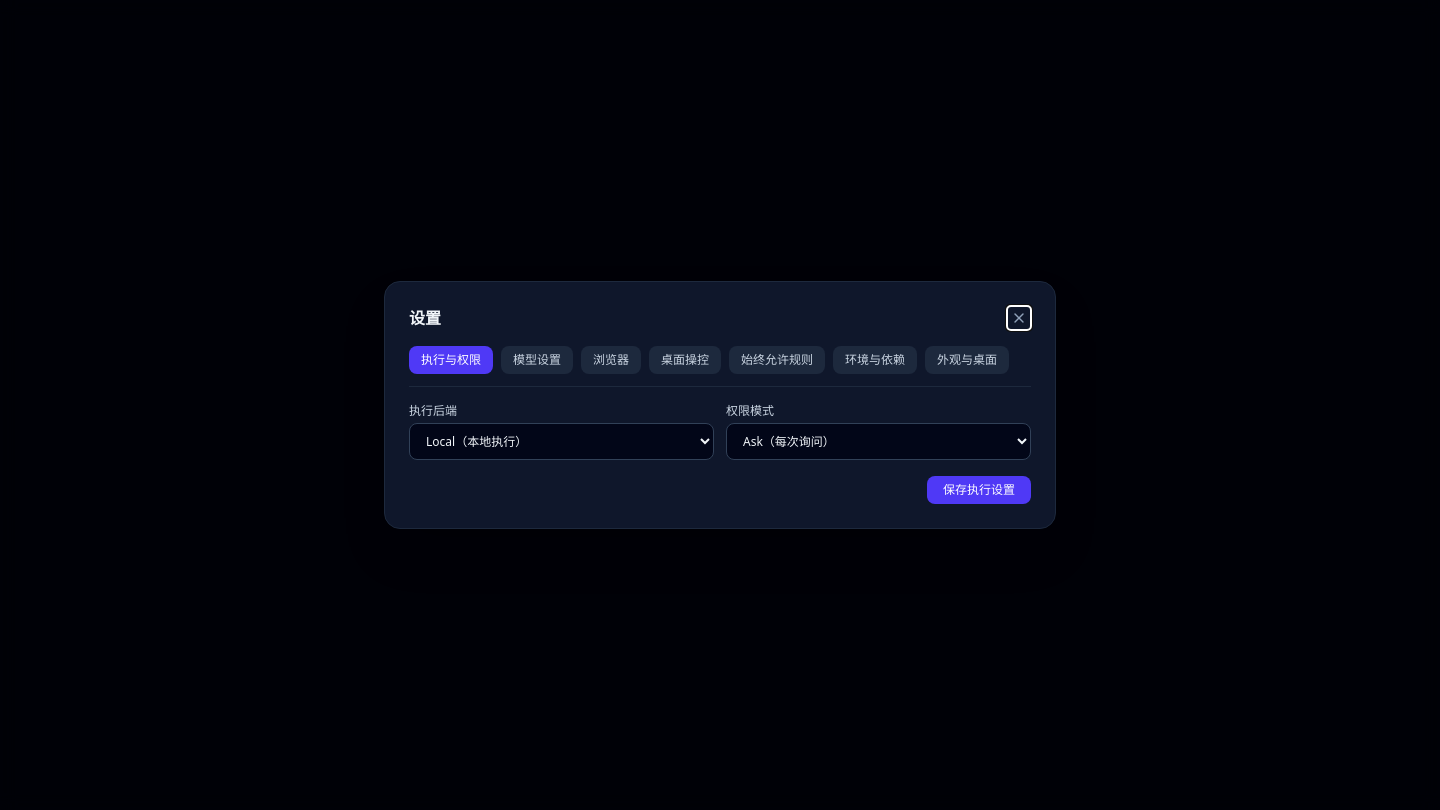
Security boundary & MVP interactive cards › displays and updates maxTokensLength, temperature and topP in SettingsModal model tab
The width and height of the screenshot is (1440, 810).
Later steps or results of the test are not shown.
Click the button "模型设置" at (537, 360), box 501,346 -> 573,374
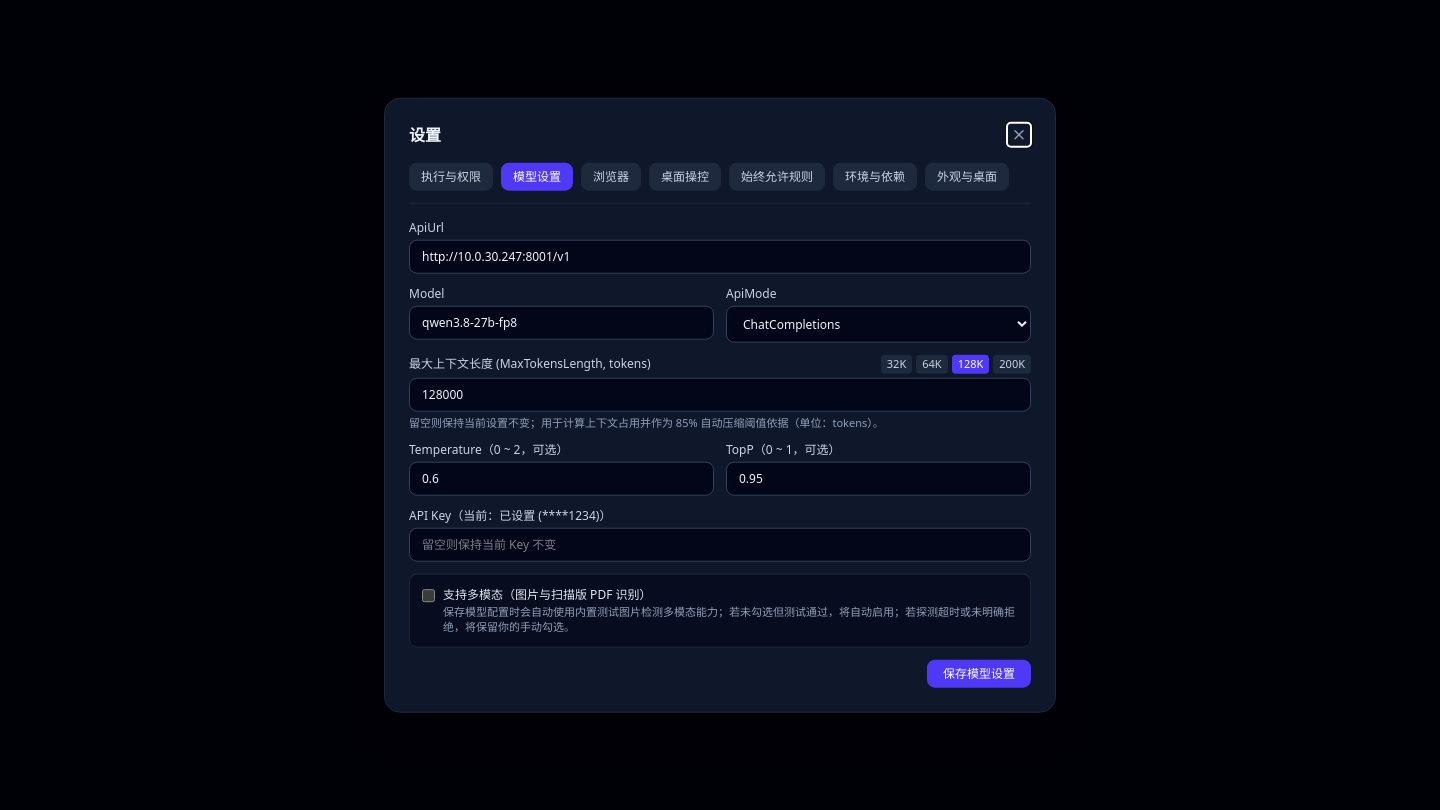
Check: the number field labelled "最大上下文长度" holds "128000", box 409,377 -> 1031,411
Check: the number field labelled "Temperature" holds "0.6", box 409,462 -> 714,496
Check: the number field labelled "TopP" holds "0.95", box 726,462 -> 1031,496
